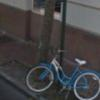bicycles: (26, 48, 100, 99)
